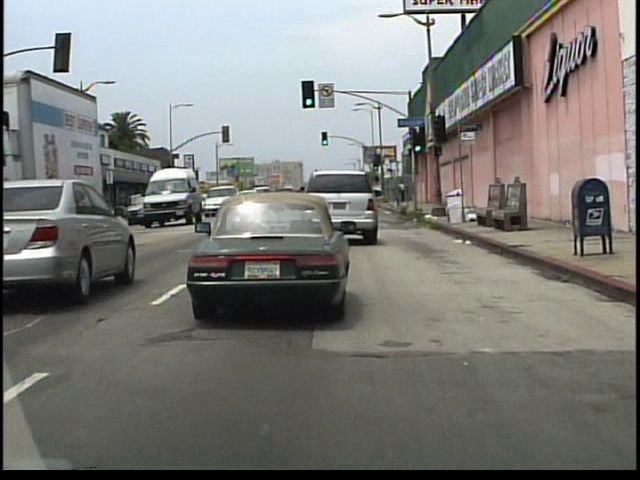person: (398, 180, 408, 204)
